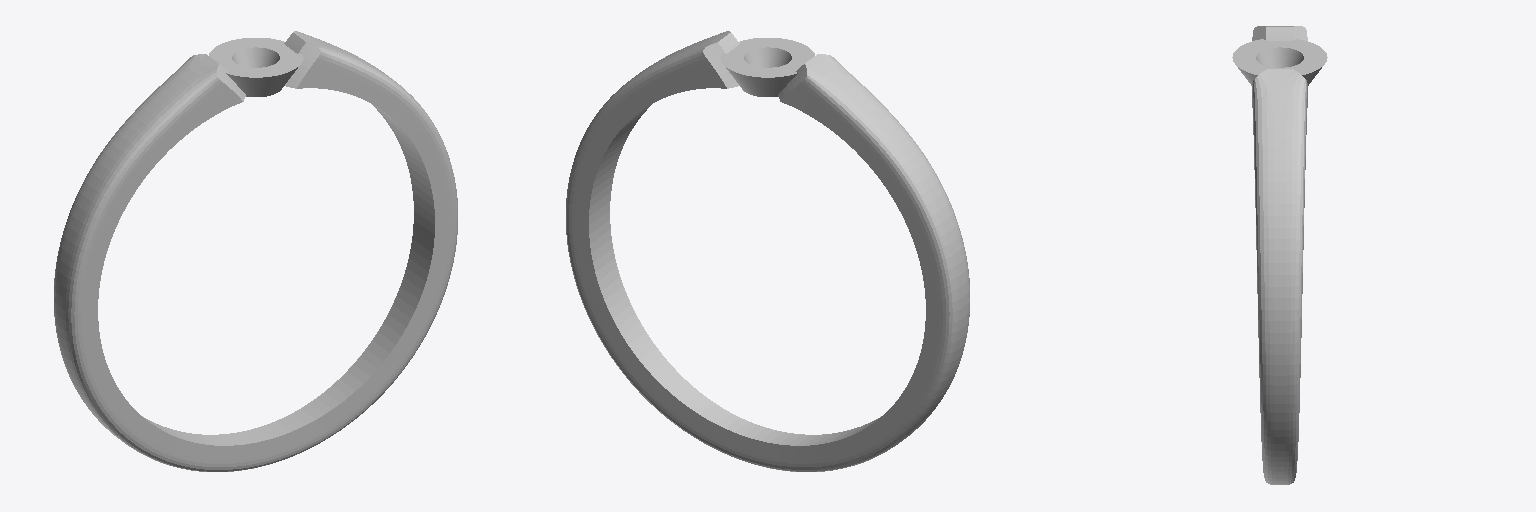
The model's file is Engagement_9mm_Ring.obj.
3 renders of one model, left to right at view 1: azimuth 30°, elevation 25°; view 2: azimuth 150°, elevation 25°; view 3: azimuth 270°, elevation 25°, orthographic.
Visible parts, largest first — view 1: Plane, Circle; view 2: Plane, Circle; view 3: Plane, Circle.
Part boxes in pixels (left/top/right/bottom): Plane: left=54, top=31, right=457, bottom=471; Circle: left=209, top=38, right=303, bottom=96; Plane: left=566, top=31, right=969, bottom=471; Circle: left=720, top=38, right=814, bottom=96; Plane: left=1252, top=26, right=1307, bottom=484; Circle: left=1232, top=39, right=1327, bottom=85.
Bounding box in the file's own units: 21.5 × 21.84 × 4.52.